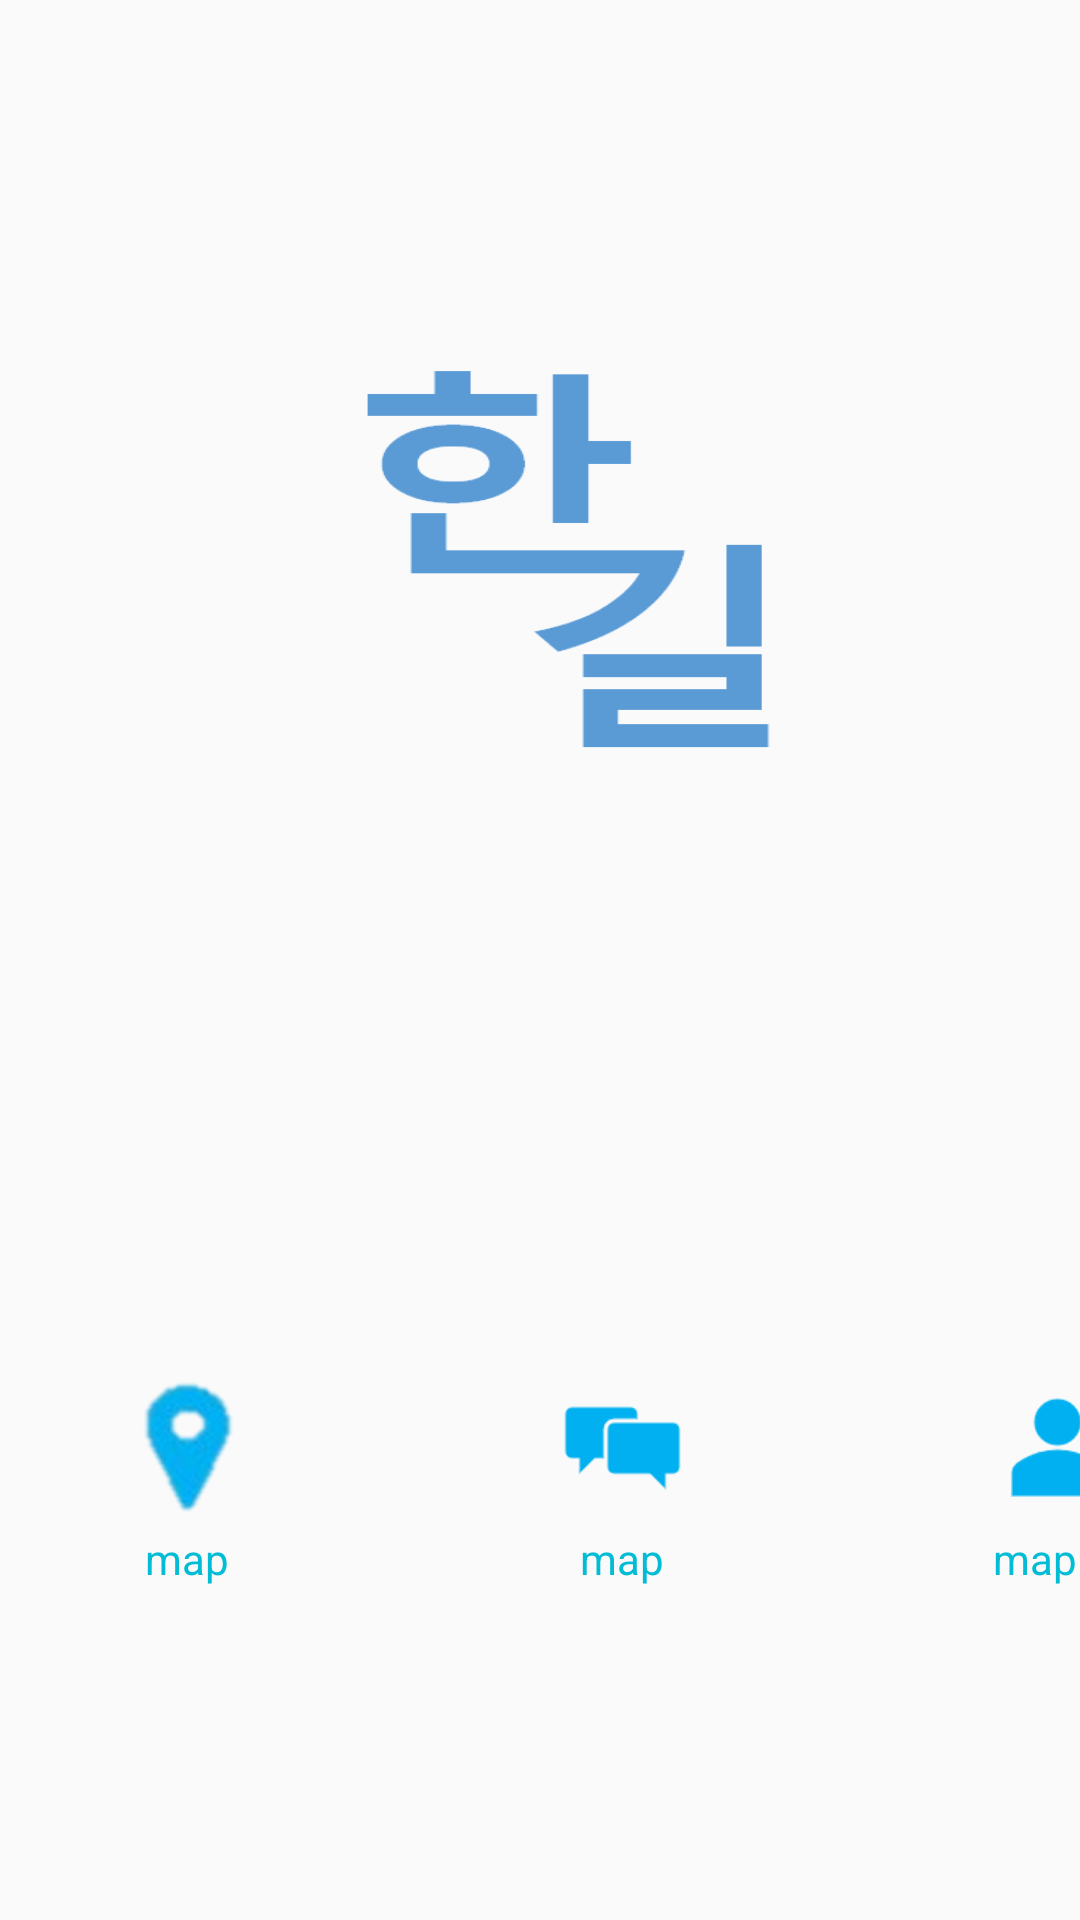

Icons on this 1080*1920 Android screen, each with the point to tap as [x,y]:
chat: [622,1448]
